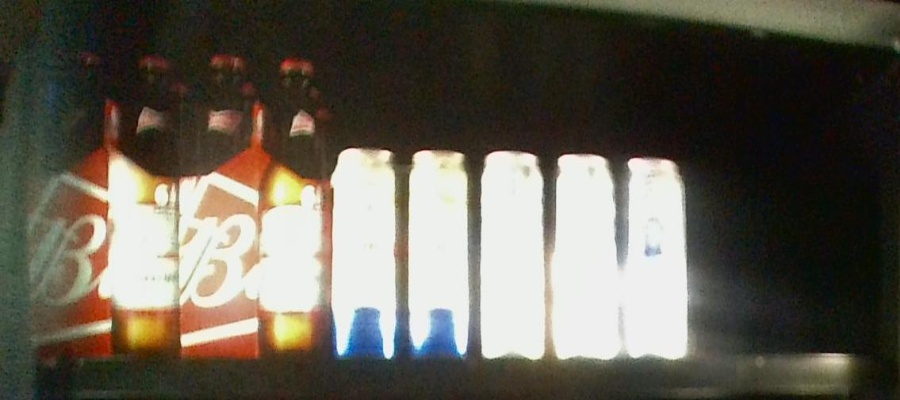bottle: (181, 49, 339, 361), (25, 51, 178, 361), (474, 151, 688, 361), (339, 145, 472, 359)
